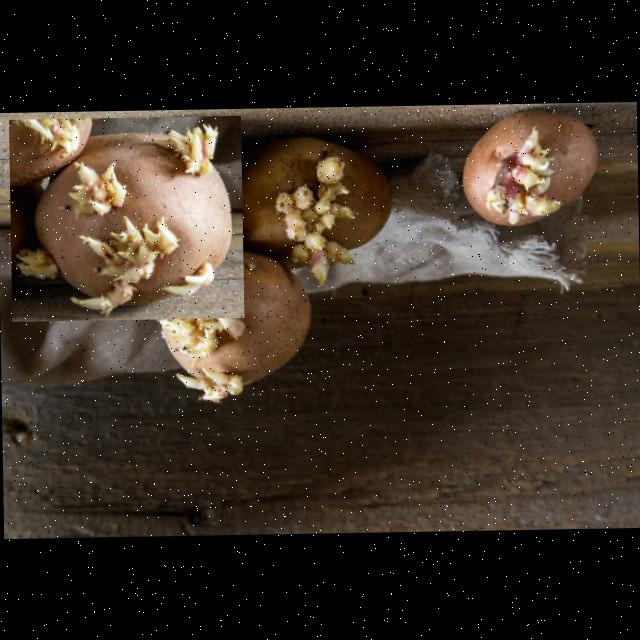Sprouted potato: (8, 116, 244, 322), (216, 133, 404, 285), (149, 244, 325, 406), (454, 103, 610, 232)
